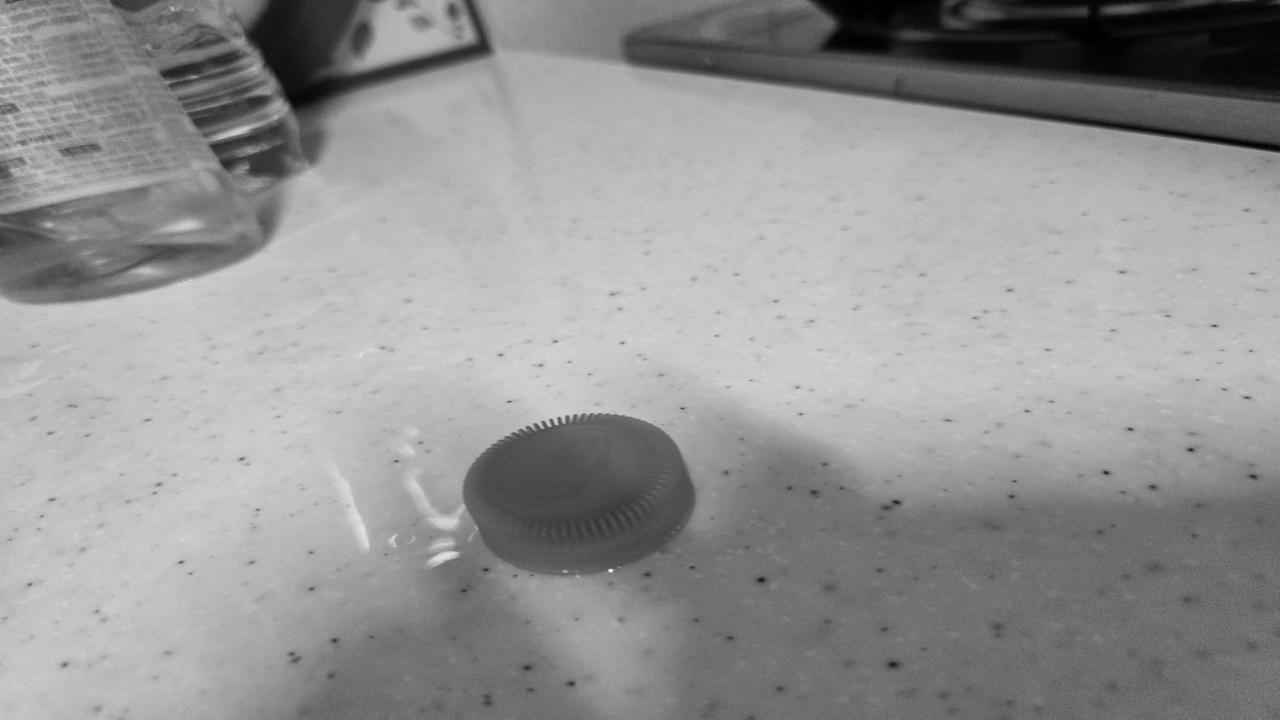bottle_cap: (458, 411, 700, 582)
